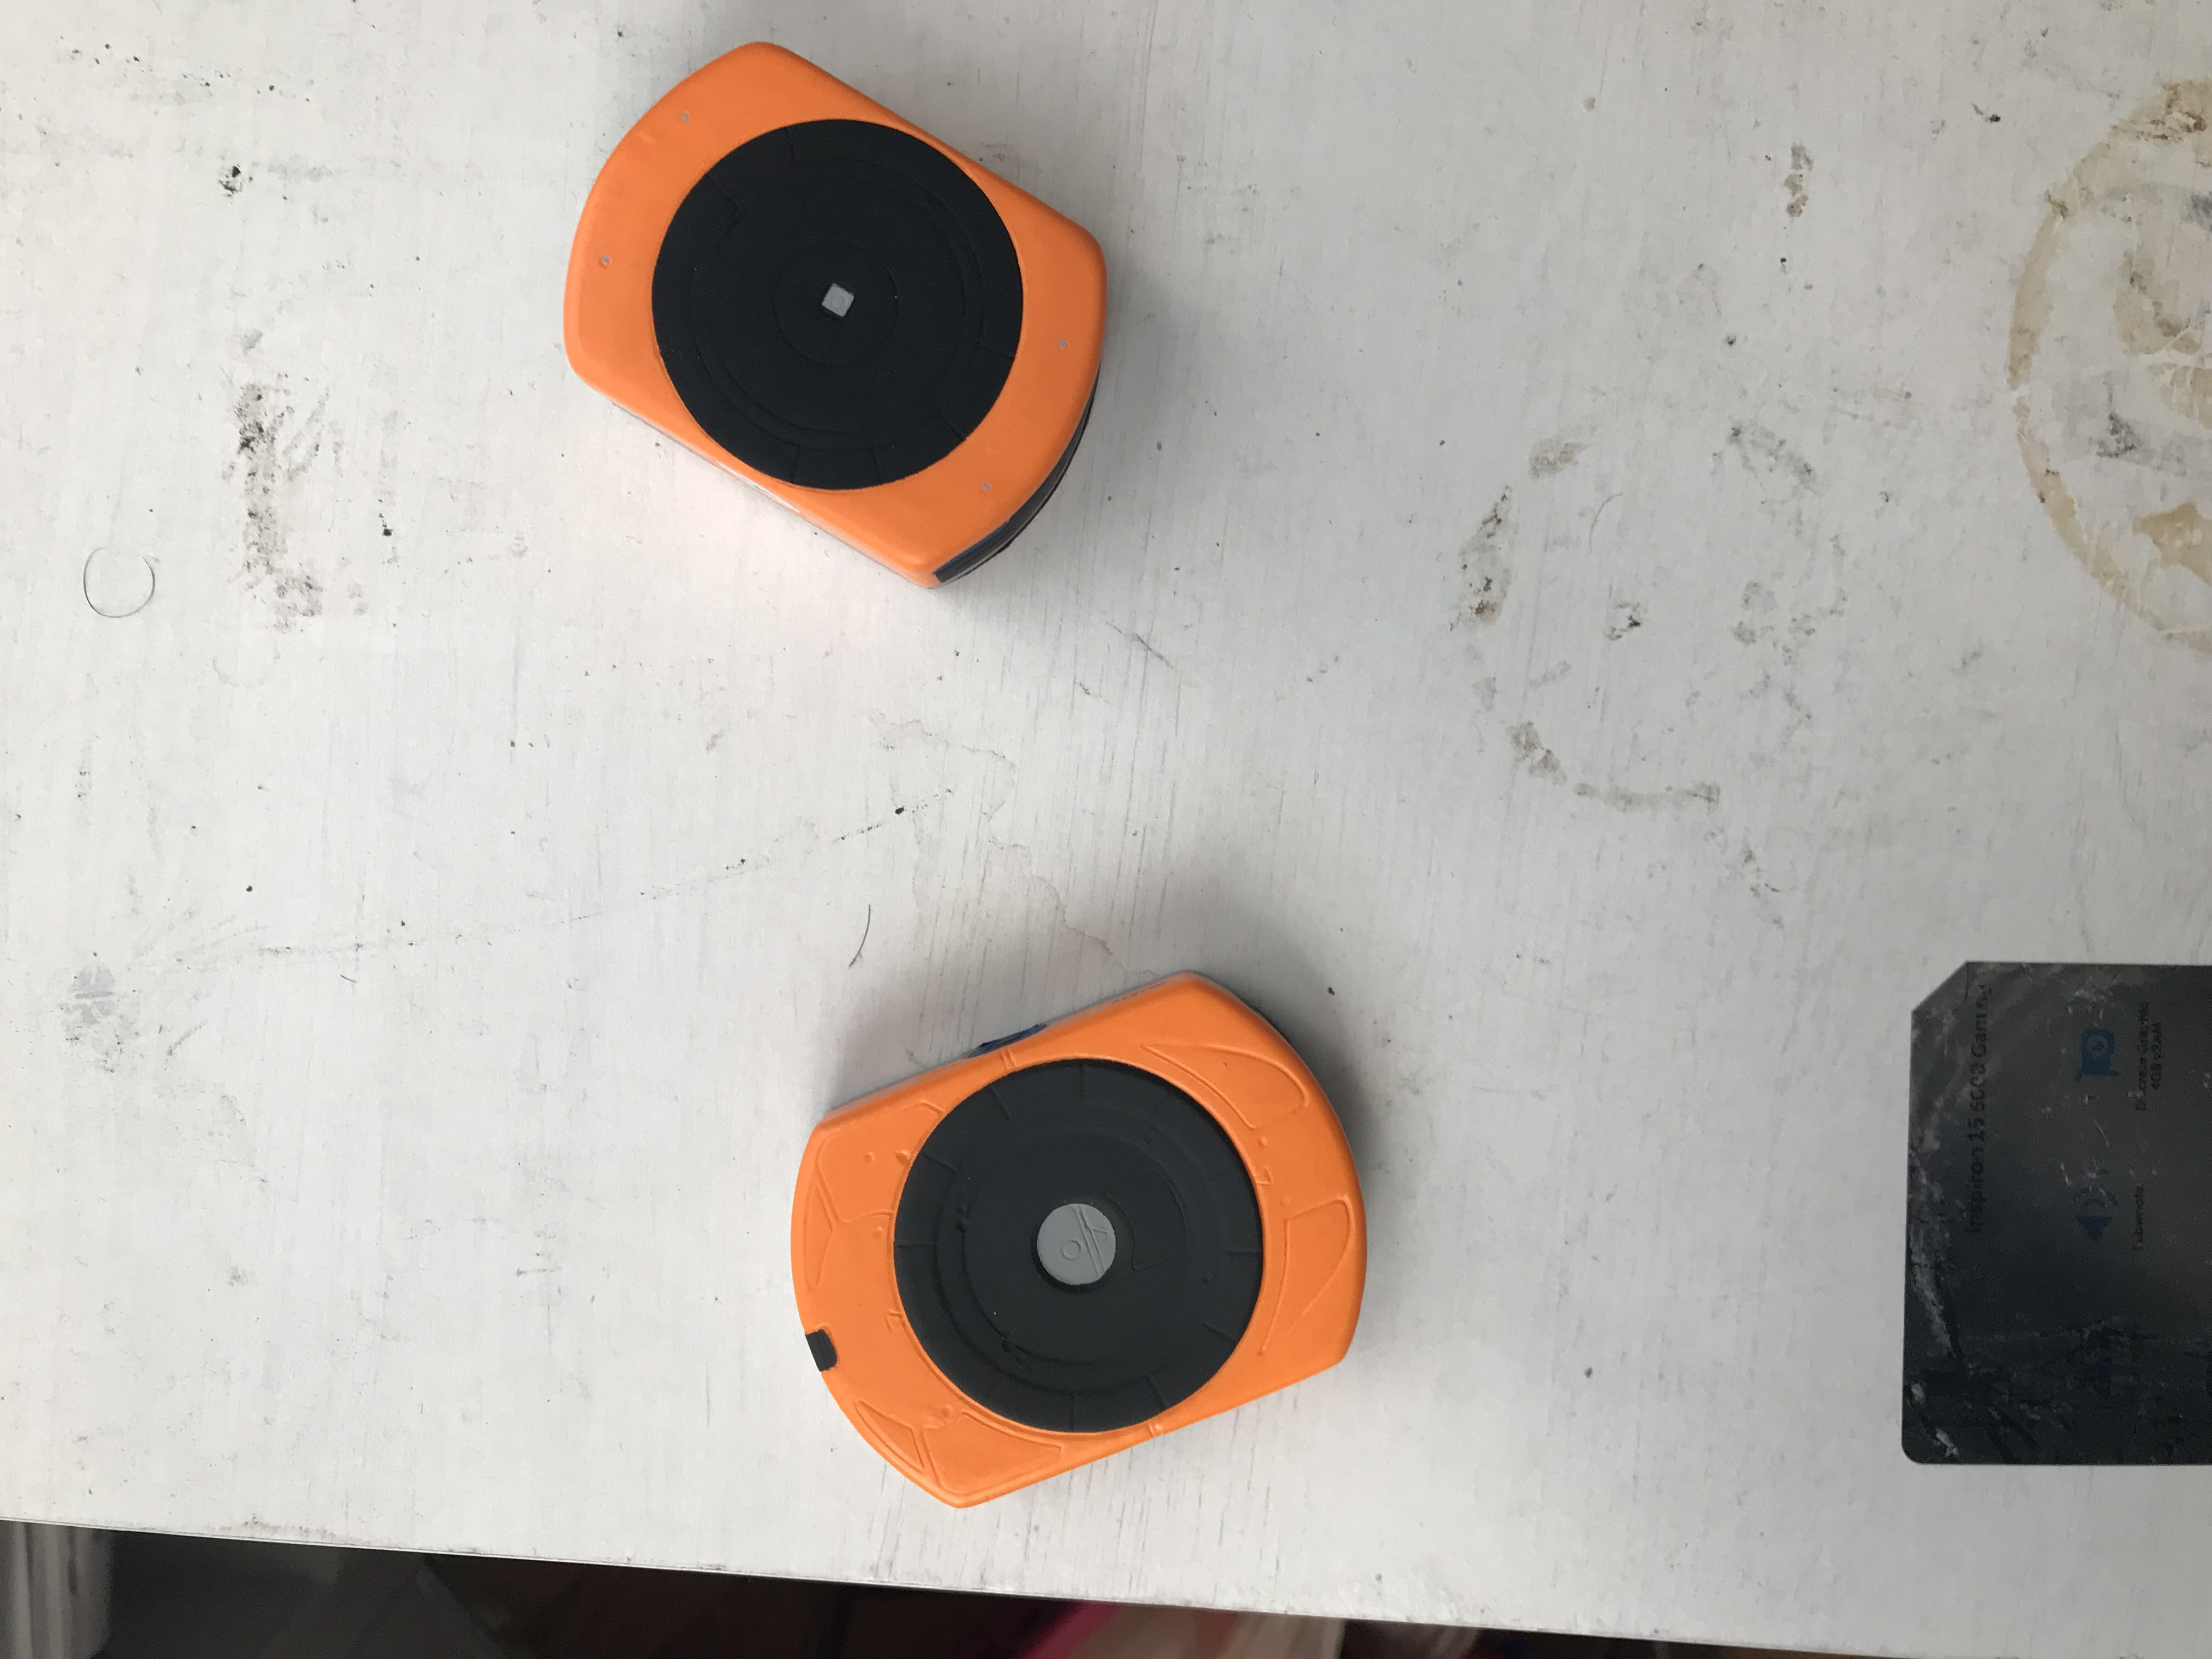amazon_bot: (726, 934, 1479, 1567), (547, 14, 1169, 610)
